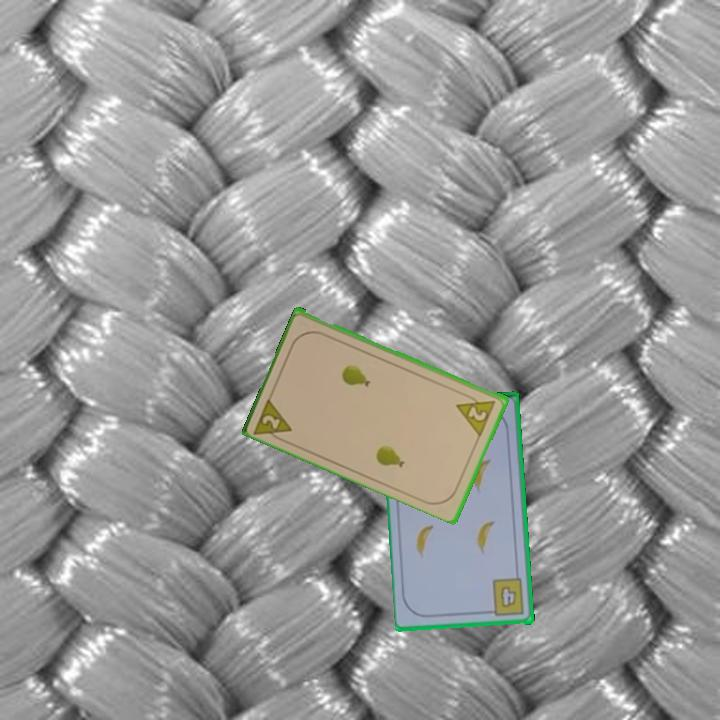2p: (251, 393, 296, 446), (453, 390, 499, 438)
4b: (484, 576, 527, 619)
